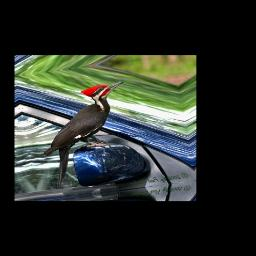Woodpecker: (29, 80, 143, 190)
